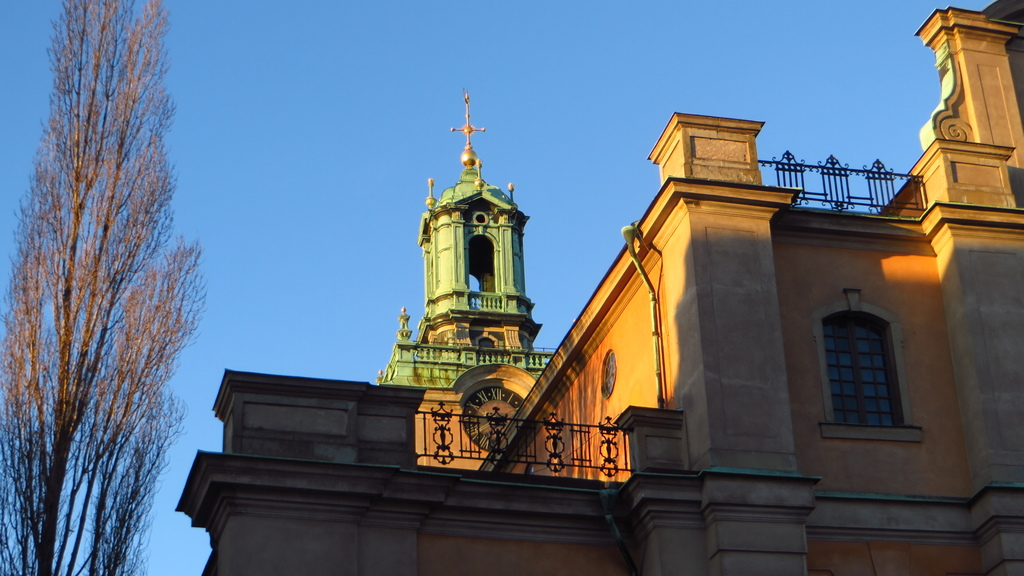Tree: (0, 0, 205, 575)
